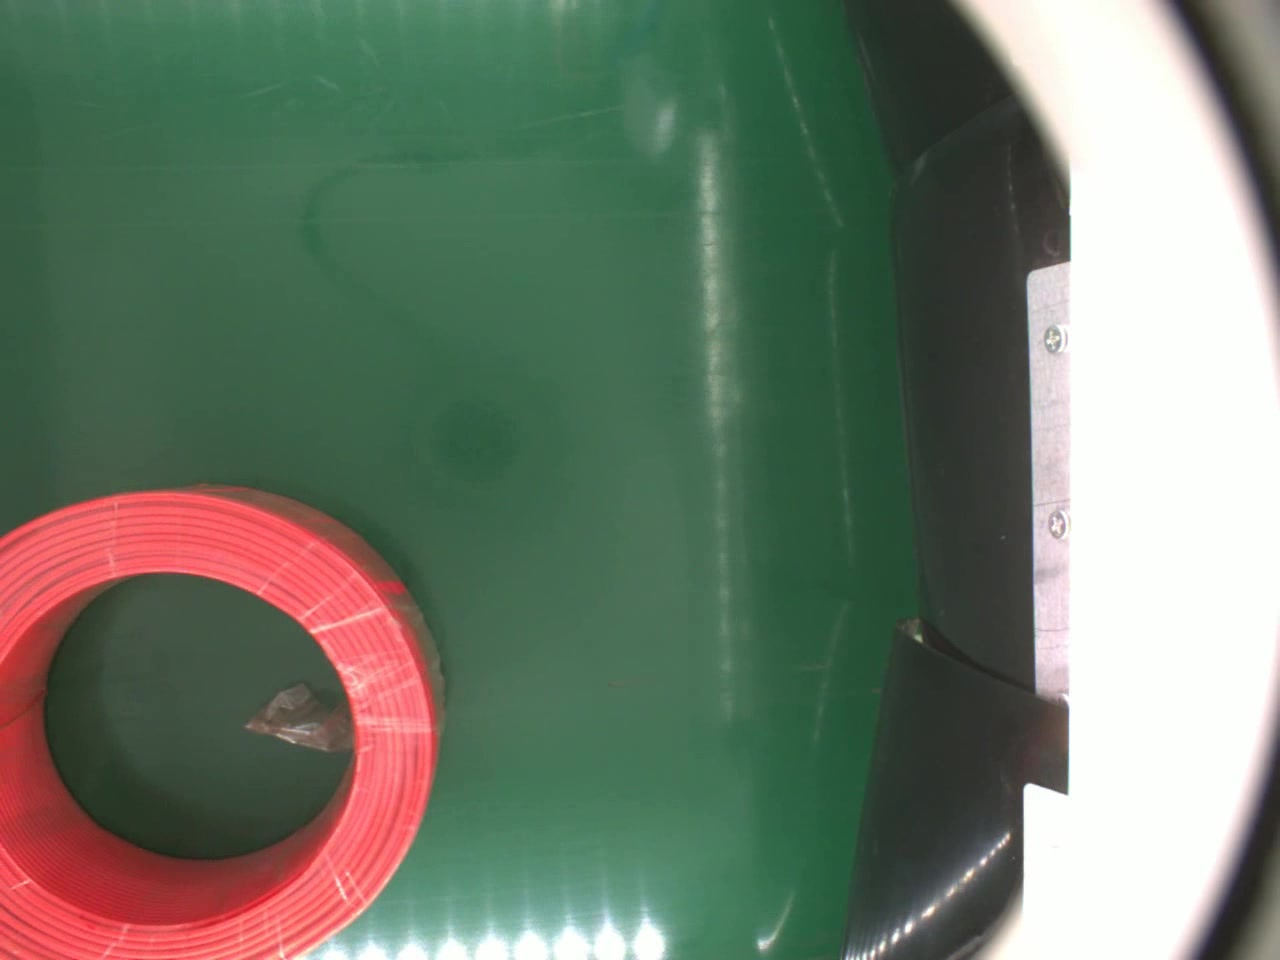red: (0, 482, 445, 960)
